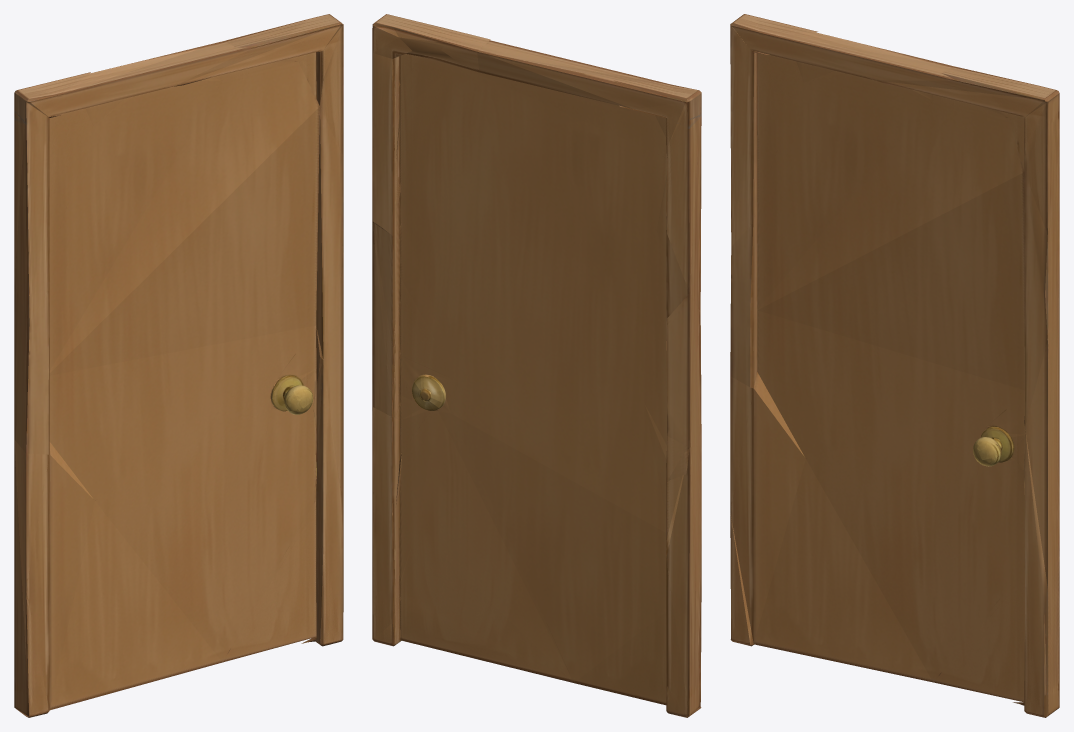
File: raw_door_wood.glb
The picture shows the model from 3 angles, left to right: view 1: azimuth 30°, elevation 25°; view 2: azimuth 150°, elevation 25°; view 3: azimuth 330°, elevation 25°; orthographic projection.
Size of the model in its own units: 1.02 by 1.9 by 0.1442.
1 material, 1 textured.
